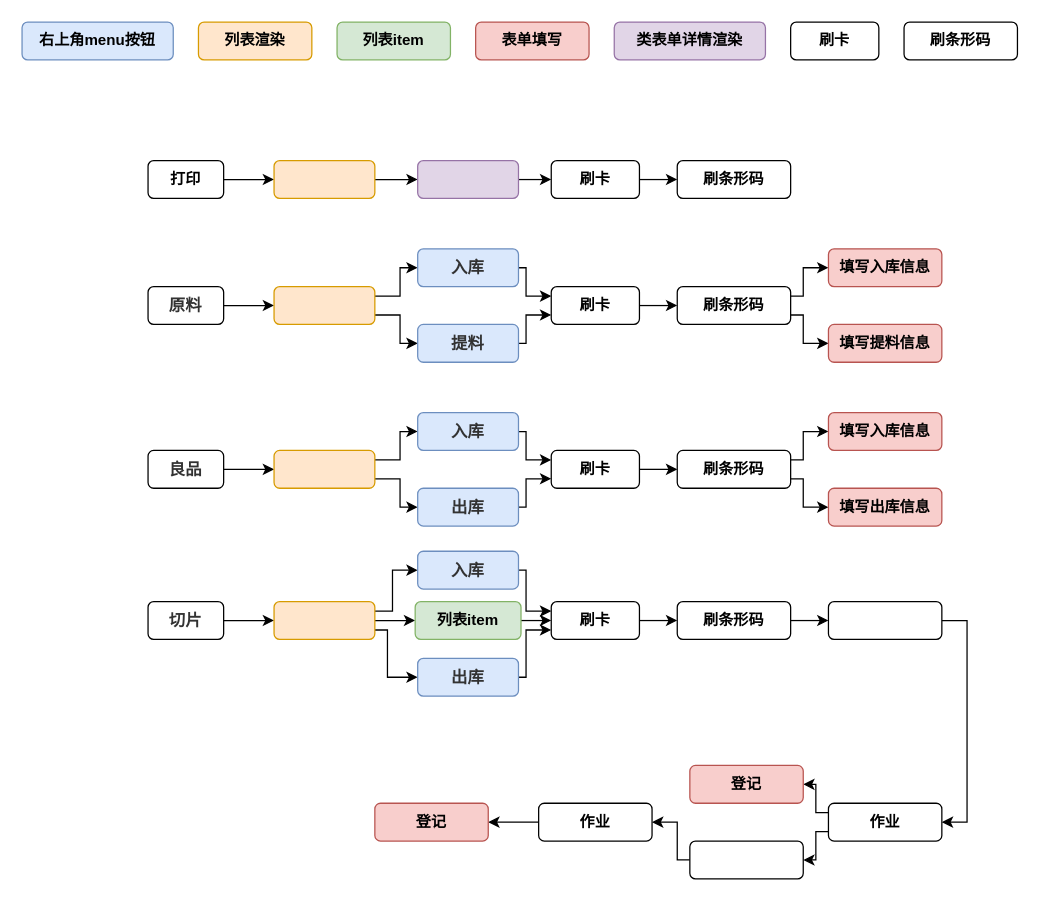
Some shapes in this 1040 by 901 pixel diagram are drawn without their labels. The box of each missing label's shape, as (x1, y1, x2, y2) in pixels:
切片列表: (273, 600, 375, 639)
刷基材D条码: (827, 600, 942, 639)
原料列表: (273, 285, 375, 324)
工单详情: (416, 159, 518, 198)
扫描膜F: (689, 840, 803, 879)
良品列表: (273, 449, 375, 488)
首序工单: (273, 159, 375, 198)
